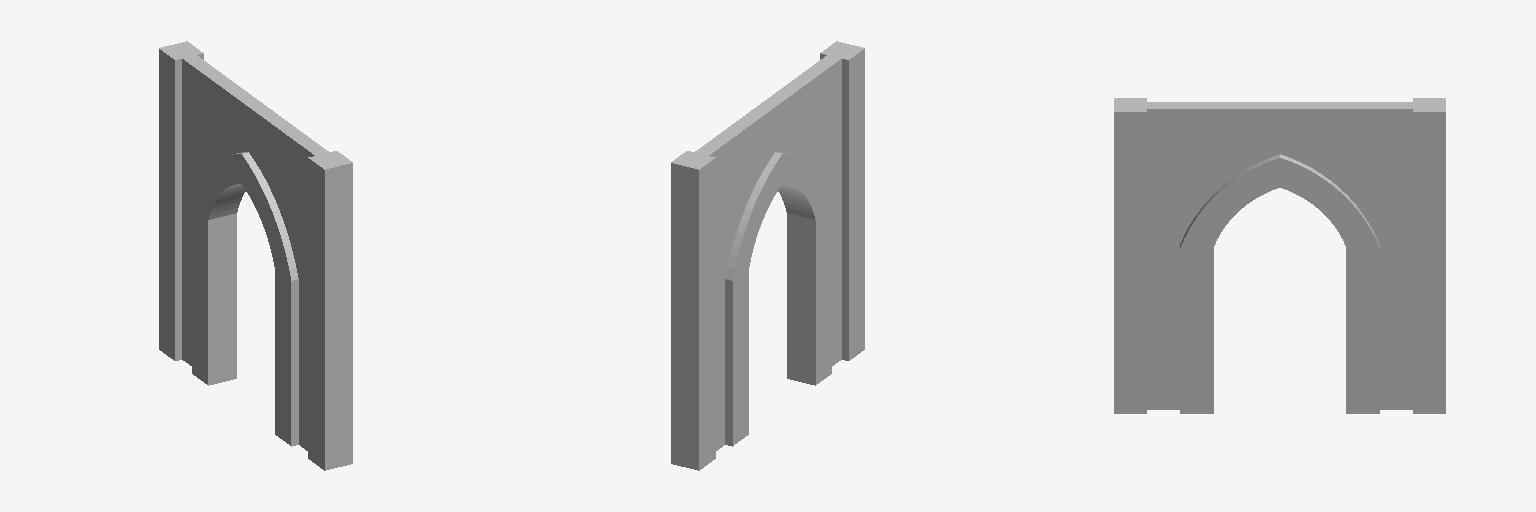
The model's file is wallDoorwayRound.obj.
3 renders of one model, left to right at view 1: azimuth 30°, elevation 25°; view 2: azimuth 150°, elevation 25°; view 3: azimuth 270°, elevation 25°, orthographic.
Parts seen in each view (by area): view 1: wallDoorwayRound; view 2: wallDoorwayRound; view 3: wallDoorwayRound.
Boxes of the visible parts, x1,y1,x2,y2 form: wallDoorwayRound: [159, 41, 352, 470]; wallDoorwayRound: [671, 41, 864, 470]; wallDoorwayRound: [1114, 98, 1445, 413].
Bounding box in the file's own units: 0.1 × 1 × 1.